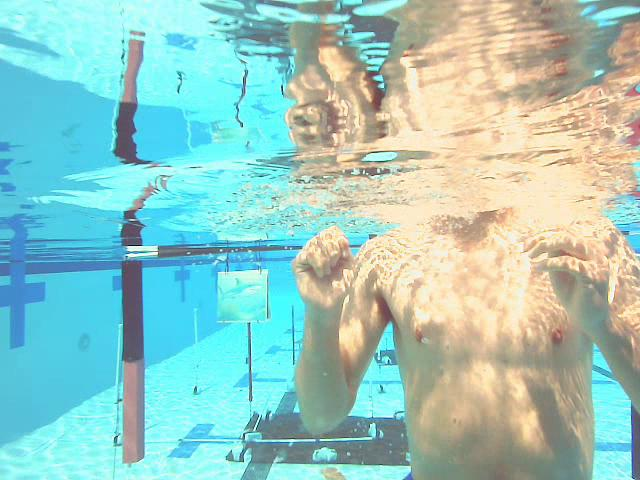black_poster: (247, 323, 251, 402), (292, 304, 295, 365)
left_gate_poster: (121, 259, 145, 464)
shark: (218, 269, 270, 323)
white_poster: (113, 322, 123, 447), (194, 309, 198, 394)
